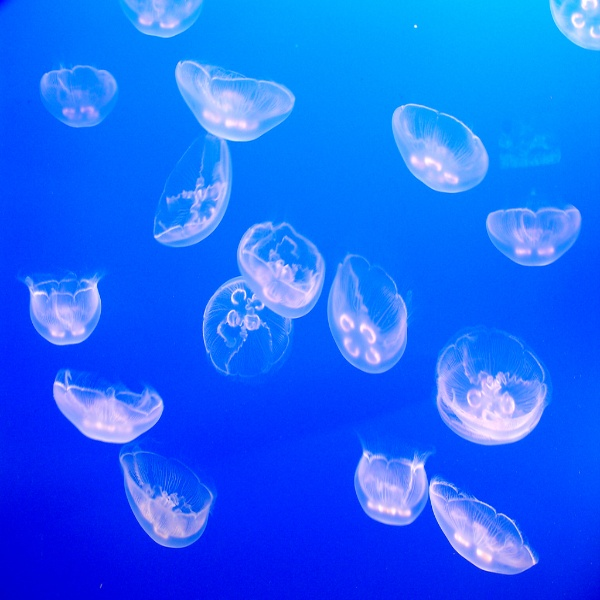Jellyfish: (203, 212, 418, 388), (152, 67, 295, 248), (431, 320, 554, 448), (425, 469, 538, 579), (118, 440, 216, 548), (391, 101, 487, 193), (51, 368, 164, 441), (352, 429, 435, 526), (15, 268, 107, 344), (483, 209, 581, 274), (36, 63, 118, 128), (118, 0, 206, 40), (546, 0, 599, 51)
